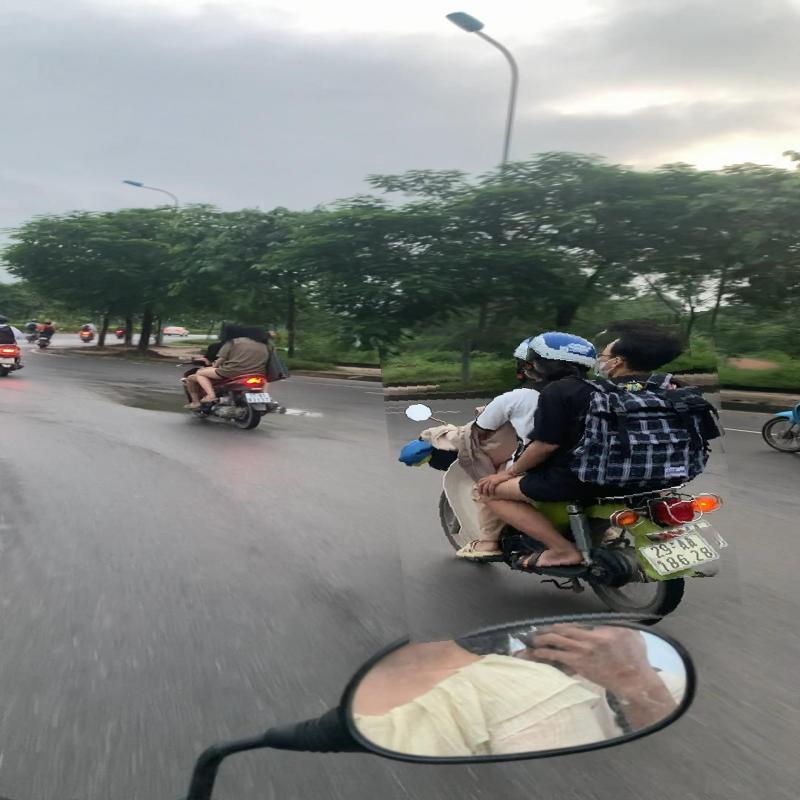helmet: (526, 330, 601, 378)
licenseplate: (636, 528, 722, 581)
motorcyclist: (386, 319, 736, 636)
nohelmet: (596, 325, 692, 378)
